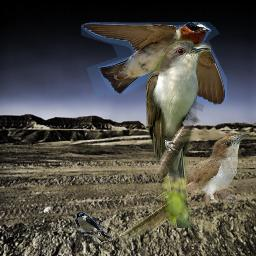Cuckoo: (118, 133, 250, 239), (146, 34, 211, 228)
Swallow: (81, 22, 227, 105), (75, 212, 111, 242)
